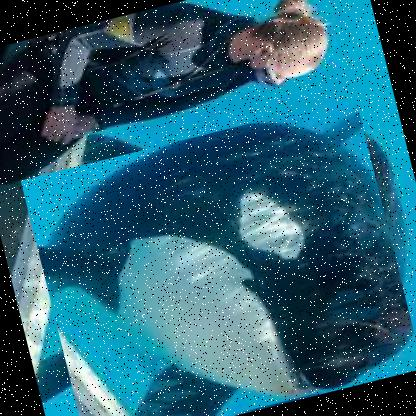killer_whale: (19, 96, 415, 415)
